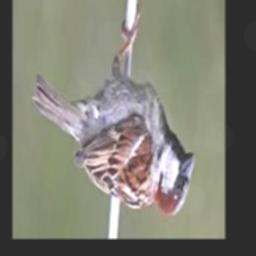Sparrow: (32, 9, 194, 217)
